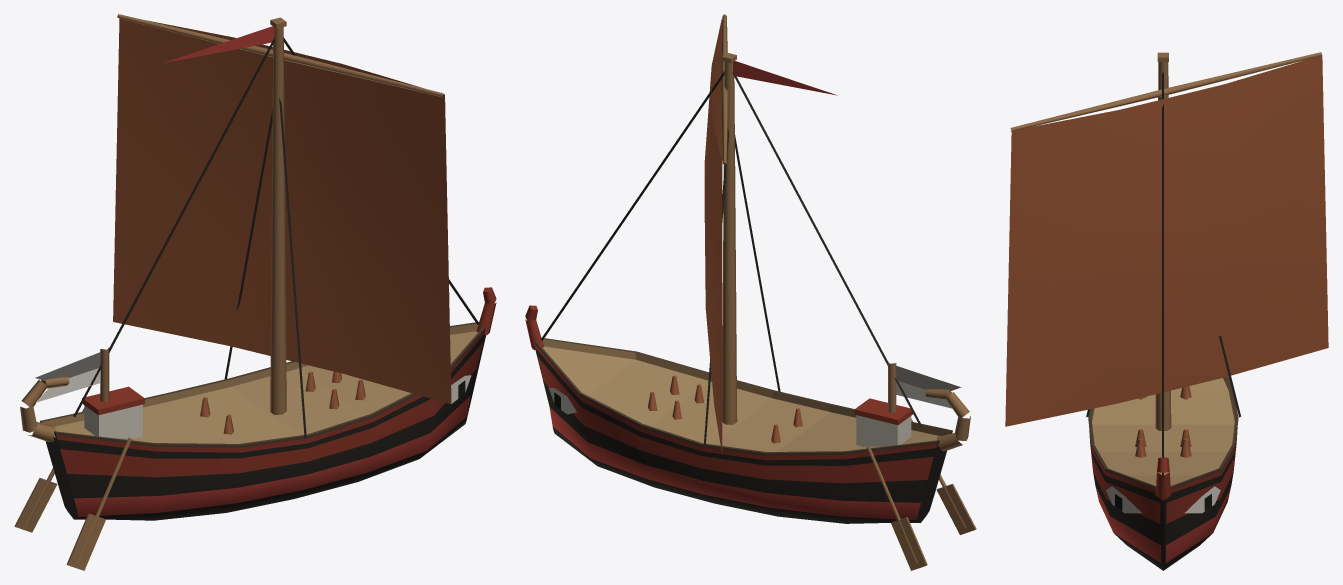
File: hull_eur_greek_boat.glb
3 renders of one model, left to right at view 1: azimuth 30°, elevation 25°; view 2: azimuth 150°, elevation 25°; view 3: azimuth 270°, elevation 25°, orthographic. The views are drawn at different scales.
Visible parts, largest first — view 1: sail_main, hull, deck, mast, rigging, flag, yards; view 2: hull, sail_main, deck, mast, rigging, flag, yards; view 3: sail_main, hull, yards, rigging, mast, deck.
Part boxes in pixels (left/top/right/bottom): sail_main: left=113, top=18, right=451, bottom=404; hull: left=20, top=287, right=496, bottom=520; deck: left=14, top=371, right=365, bottom=570; mast: left=100, top=17, right=286, bottom=414; rigging: left=73, top=37, right=479, bottom=438; flag: left=35, top=26, right=274, bottom=402; yards: left=117, top=14, right=443, bottom=97; hull: left=525, top=305, right=970, bottom=523; sail_main: left=704, top=17, right=722, bottom=454; deck: left=648, top=375, right=976, bottom=570; mast: left=722, top=52, right=896, bottom=424; rigging: left=541, top=71, right=921, bottom=446; flag: left=733, top=60, right=960, bottom=408; yards: left=721, top=14, right=728, bottom=164; sail_main: left=1005, top=55, right=1328, bottom=426; hull: left=1088, top=376, right=1238, bottom=570; yards: left=1010, top=52, right=1321, bottom=131; rigging: left=1086, top=72, right=1240, bottom=475; mast: left=1155, top=52, right=1171, bottom=430; deck: left=1135, top=386, right=1191, bottom=457.
Bounding box in the file's own units: 8.11 × 7.77 × 5.
